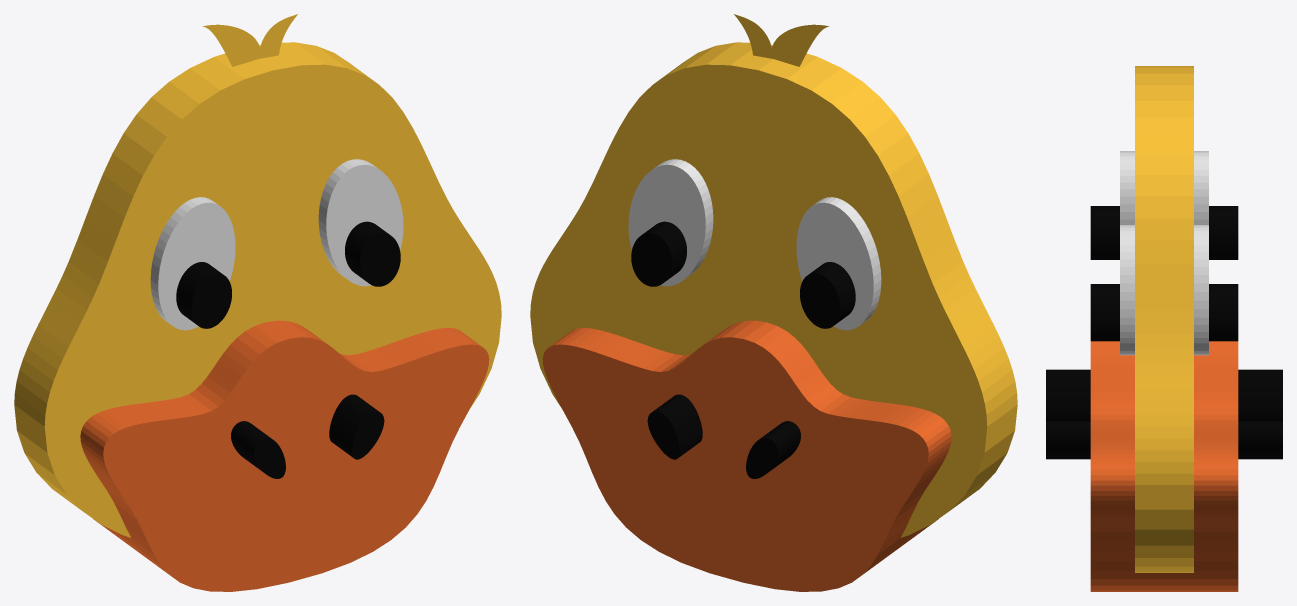
Rendered from duck.gltf.
3 views of the same model, side by side, from view 1: azimuth 30°, elevation 25°; view 2: azimuth 150°, elevation 25°; view 3: azimuth 270°, elevation 25° (orthographic). The views are drawn at different scales.
Visible parts, largest first — view 1: Curve.001, Curve.006, Curve.002, Curve.004, Curve.003, Curve.005, Curve.008, Curve, Curve.007; view 2: Curve.001, Curve.006, Curve.002, Curve.004, Curve.003, Curve.005, Curve.008, Curve, Curve.007; view 3: Curve.001, Curve.006, Curve.007, Curve.004, Curve.008, Curve.005, Curve.003, Curve.002.
Part boxes in pixels (x1=…): Curve.001: x1=14, y1=42, x2=501, y2=537; Curve.006: x1=80, y1=320, x2=489, y2=591; Curve.002: x1=150, y1=197, x2=235, y2=330; Curve.004: x1=318, y1=159, x2=403, y2=286; Curve.003: x1=176, y1=262, x2=231, y2=328; Curve.005: x1=345, y1=221, x2=400, y2=286; Curve.008: x1=329, y1=394, x2=384, y2=459; Curve: x1=202, y1=14, x2=297, y2=66; Curve.007: x1=231, y1=421, x2=285, y2=478; Curve.001: x1=530, y1=42, x2=1017, y2=537; Curve.006: x1=542, y1=320, x2=951, y2=591; Curve.002: x1=796, y1=197, x2=881, y2=330; Curve.004: x1=628, y1=159, x2=713, y2=286; Curve.003: x1=800, y1=262, x2=855, y2=328; Curve.005: x1=631, y1=221, x2=686, y2=286; Curve.008: x1=647, y1=394, x2=702, y2=459; Curve: x1=734, y1=14, x2=829, y2=66; Curve.007: x1=746, y1=421, x2=800, y2=478; Curve.001: x1=1135, y1=66, x2=1193, y2=572; Curve.006: x1=1090, y1=341, x2=1238, y2=591; Curve.007: x1=1046, y1=369, x2=1282, y2=421; Curve.004: x1=1120, y1=225, x2=1208, y2=355; Curve.008: x1=1046, y1=421, x2=1282, y2=459; Curve.005: x1=1090, y1=284, x2=1238, y2=341; Curve.003: x1=1090, y1=206, x2=1238, y2=259; Curve.002: x1=1120, y1=151, x2=1208, y2=224.
Size of the model in its own units: 0.1982 by 0.2239 by 0.0918.
